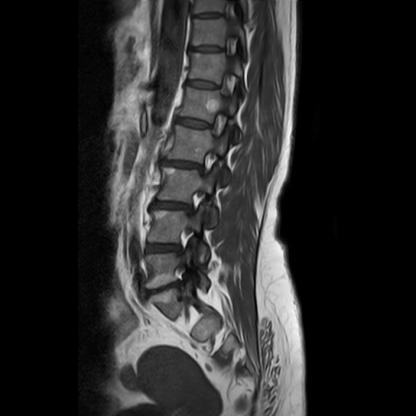Disc Bulgerotation: (143, 240, 182, 257), (145, 282, 181, 299)
